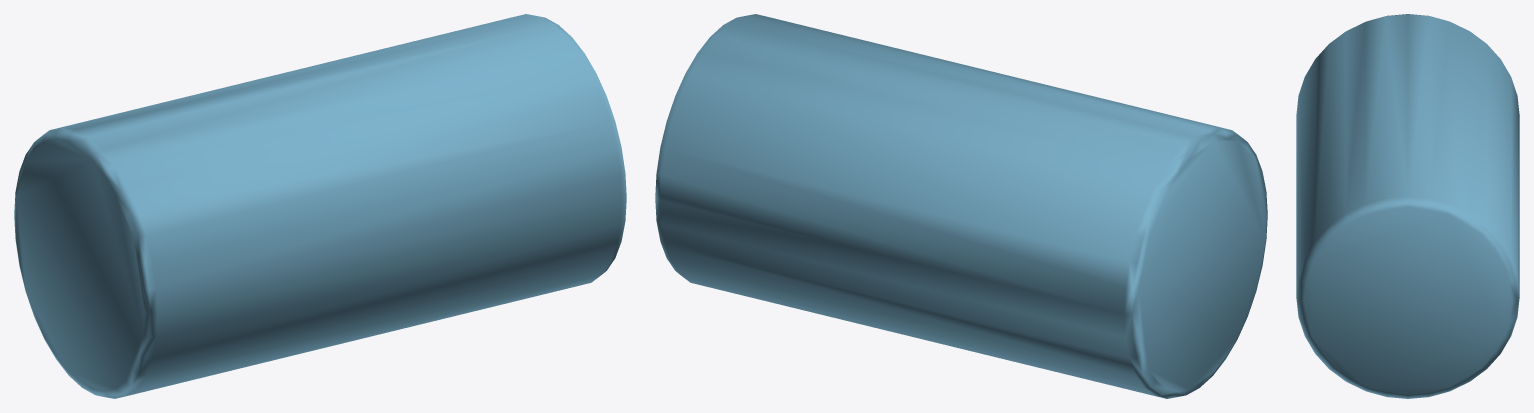
File: A04_ROLLER.fbx
3 views of the same model, side by side, from view 1: azimuth 30°, elevation 25°; view 2: azimuth 150°, elevation 25°; view 3: azimuth 270°, elevation 25° (orthographic). The views are drawn at different scales.
Parts seen in each view (by area): view 1: A04_ROLLER; view 2: A04_ROLLER; view 3: A04_ROLLER.
Boxes of the visible parts, x1,y1,x2,y2 form: A04_ROLLER: [14, 14, 626, 398]; A04_ROLLER: [655, 14, 1267, 398]; A04_ROLLER: [1296, 14, 1519, 398].
Bounding box in the file's own units: 200 × 100 × 100.
